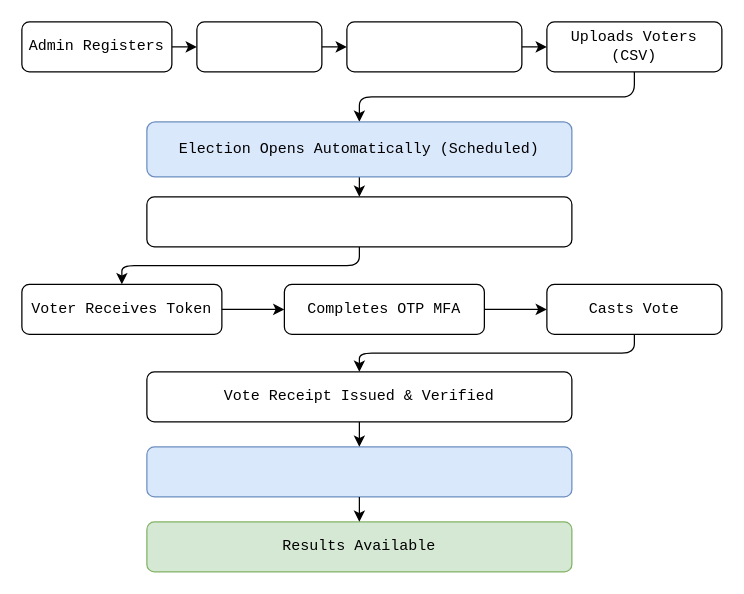
Image size: 744x594. Some labels were removed from this diagram. The centre of each missing label's shape, as x and y in pixels:
"Creates Election" belongs at point 434,46.
"Election Closes Automatically (Scheduled)" belongs at point 359,471.
"Logs In" belongs at point 259,46.
"Voting Token Emailed to Each Voter" belongs at point 359,221.
